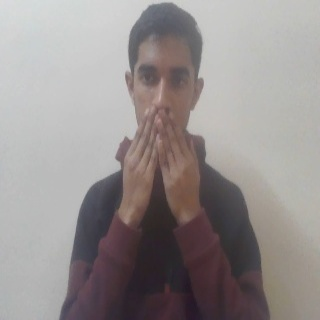Thank You: (116, 107, 211, 233)
